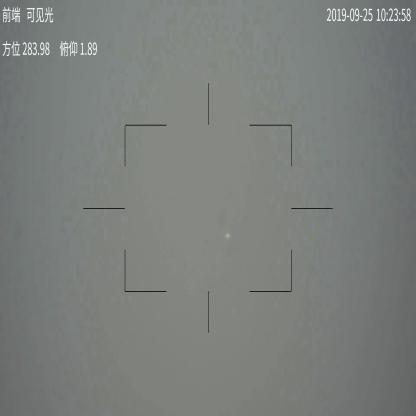uav: (224, 231, 232, 240)
